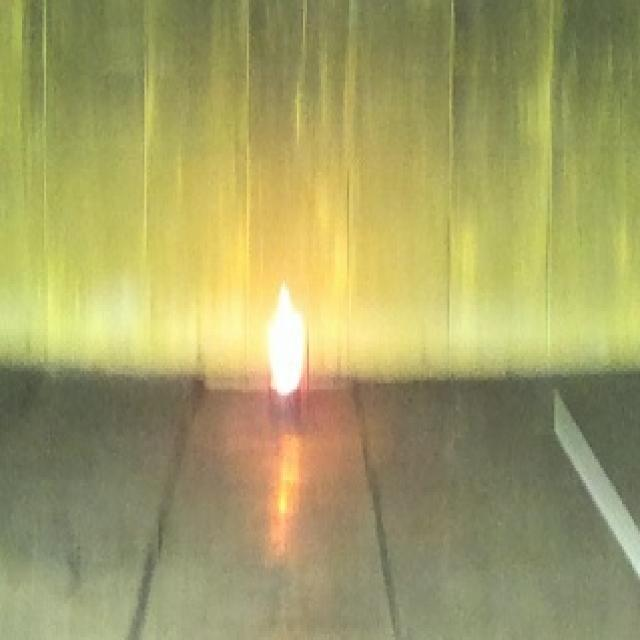Fire: (267, 279, 304, 396)
